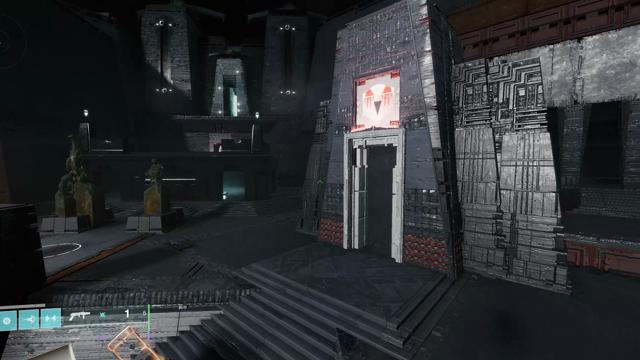enter: (215, 145, 222, 152)
give: (363, 84, 394, 120)
